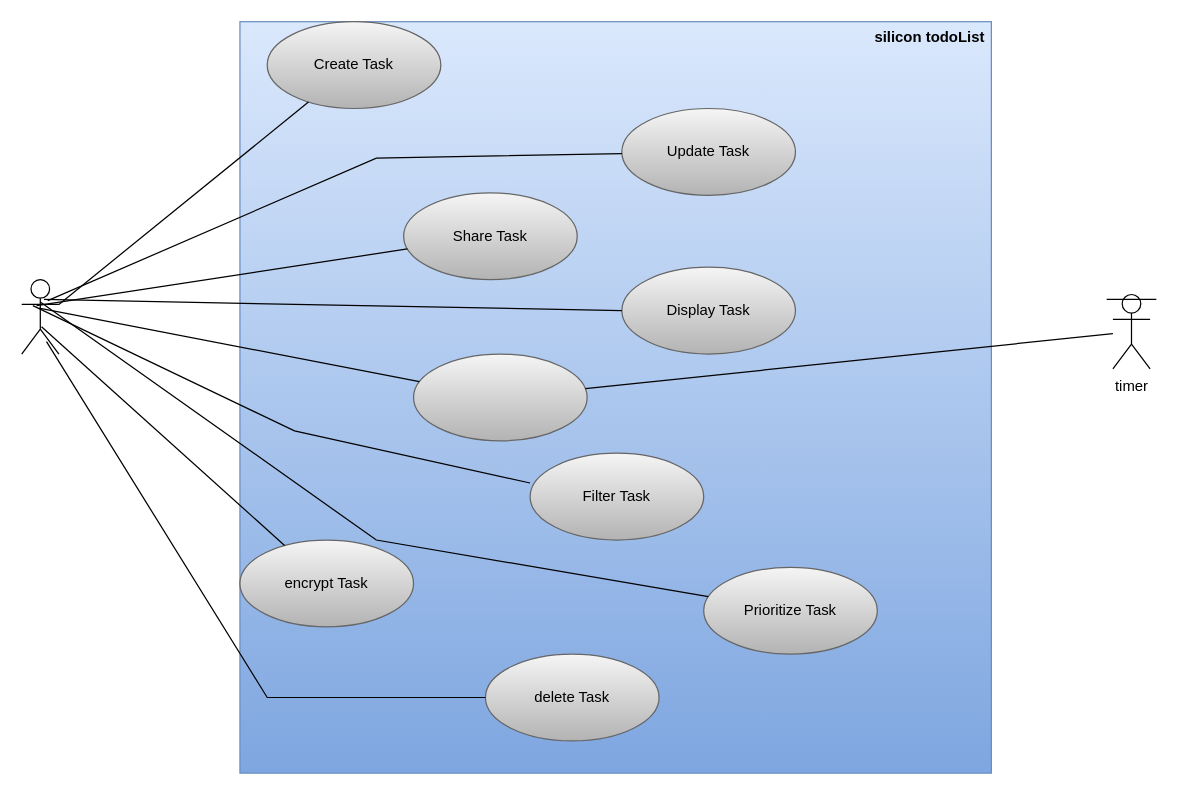
The diagram is 1178 pixels wide and 795 high, and some of its shapes have lost their labels. Here are the shapes that lost their labels. From the top down, the centre of each, then its label:
At pixel 39 316: "user".
At pixel 499 397: "Mark completed Task".
